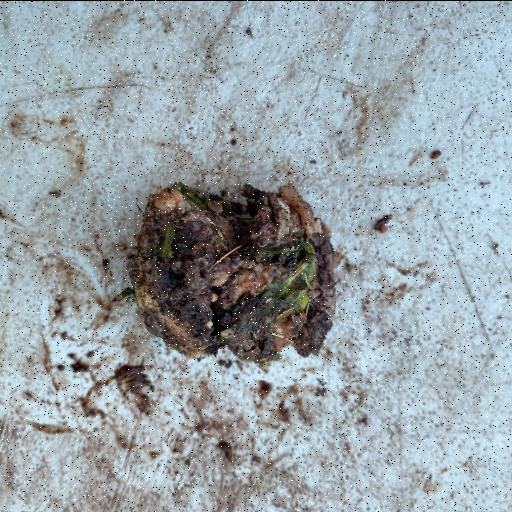Waste: (125, 180, 337, 366)
